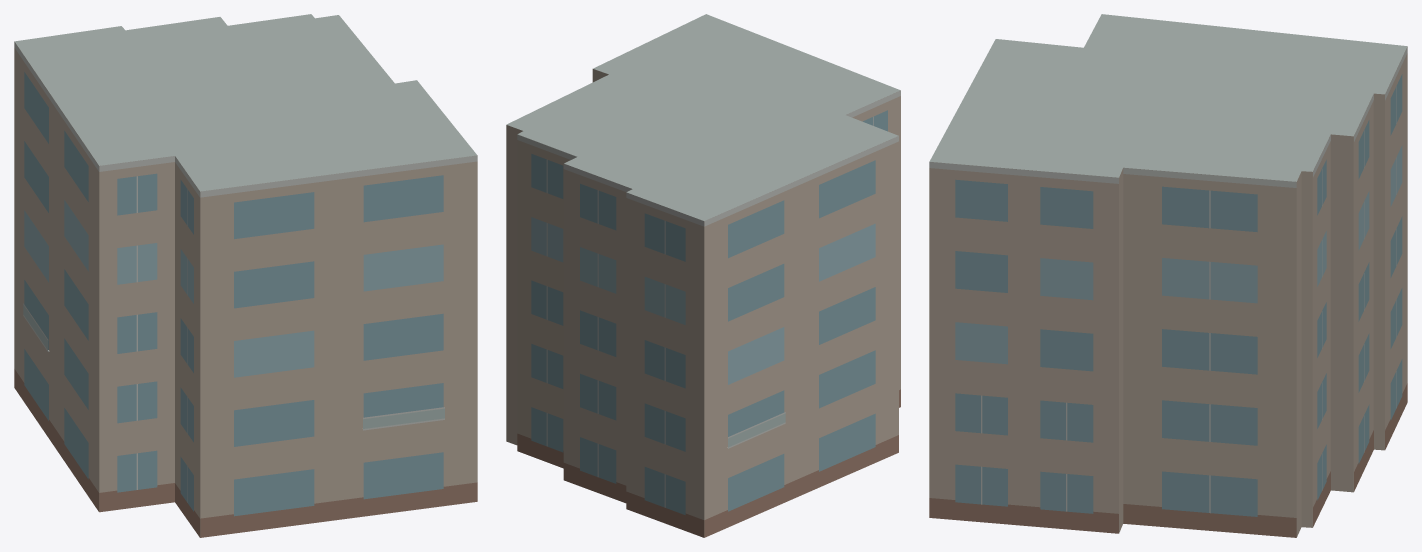
Rendered from survey-upis-32671728.glb.
3 views of the same model, side by side, from view 1: azimuth 30°, elevation 25°; view 2: azimuth 150°, elevation 25°; view 3: azimuth 270°, elevation 25° (orthographic). The views are drawn at different scales.
Visible parts, largest first — view 1: survey-upis-32671728.tmp; view 2: survey-upis-32671728.tmp; view 3: survey-upis-32671728.tmp.
Boxes of the visible parts, bbox=[...] form: survey-upis-32671728.tmp: bbox=[14, 14, 477, 537]; survey-upis-32671728.tmp: bbox=[506, 14, 900, 537]; survey-upis-32671728.tmp: bbox=[929, 14, 1407, 537].
Size of the model in its own units: 14.06 by 13.9 by 16.93.
